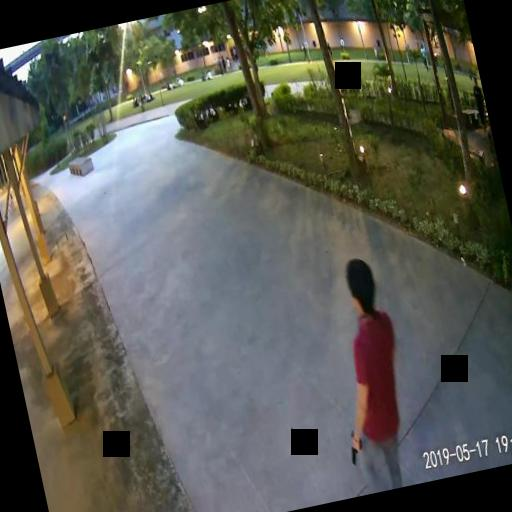Handgun: (343, 429, 364, 464)
